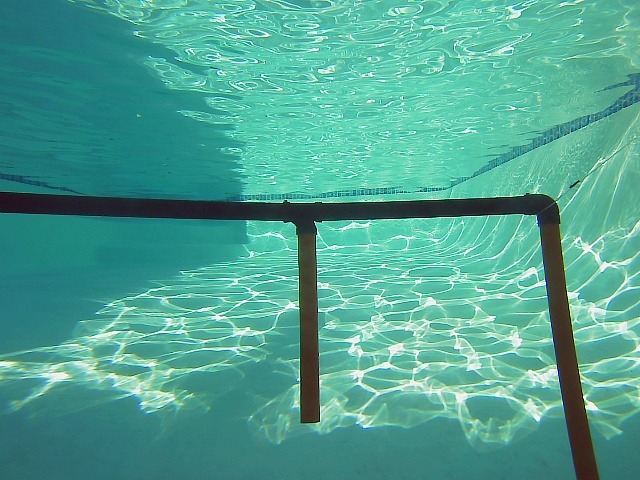Gate: (536, 219, 608, 480), (295, 225, 324, 428)
